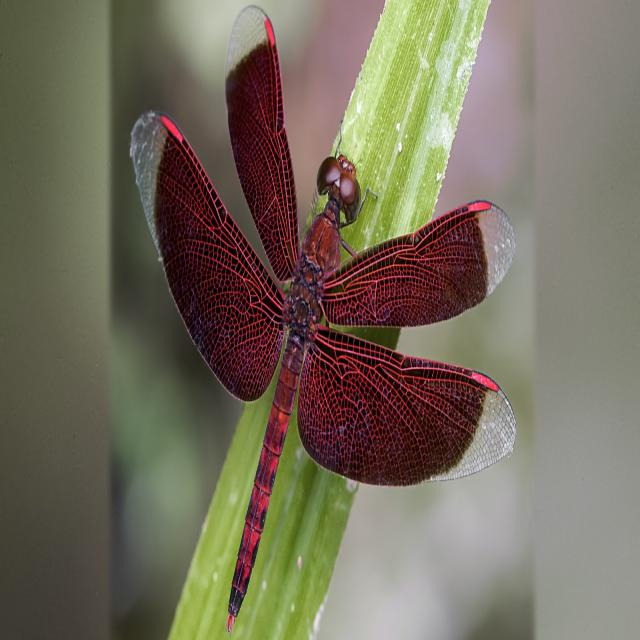dragonfly: (130, 6, 515, 631)
